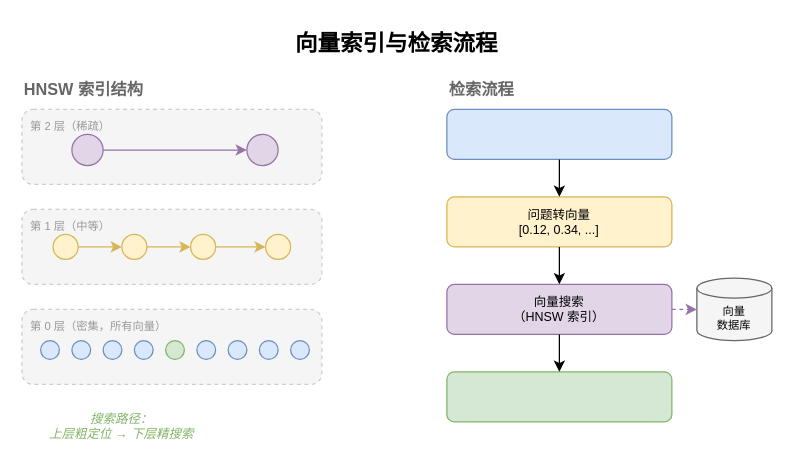
This 794x461 diagram has some shape labels left out. The shapes that lost their labels are listed below. From the top down, each one's centre as x and y in pixels, then its label:
(559,133): 用户问题 "生态红线能建房吗？"
(559,396): 返回 Top-5 + 相似度分数
